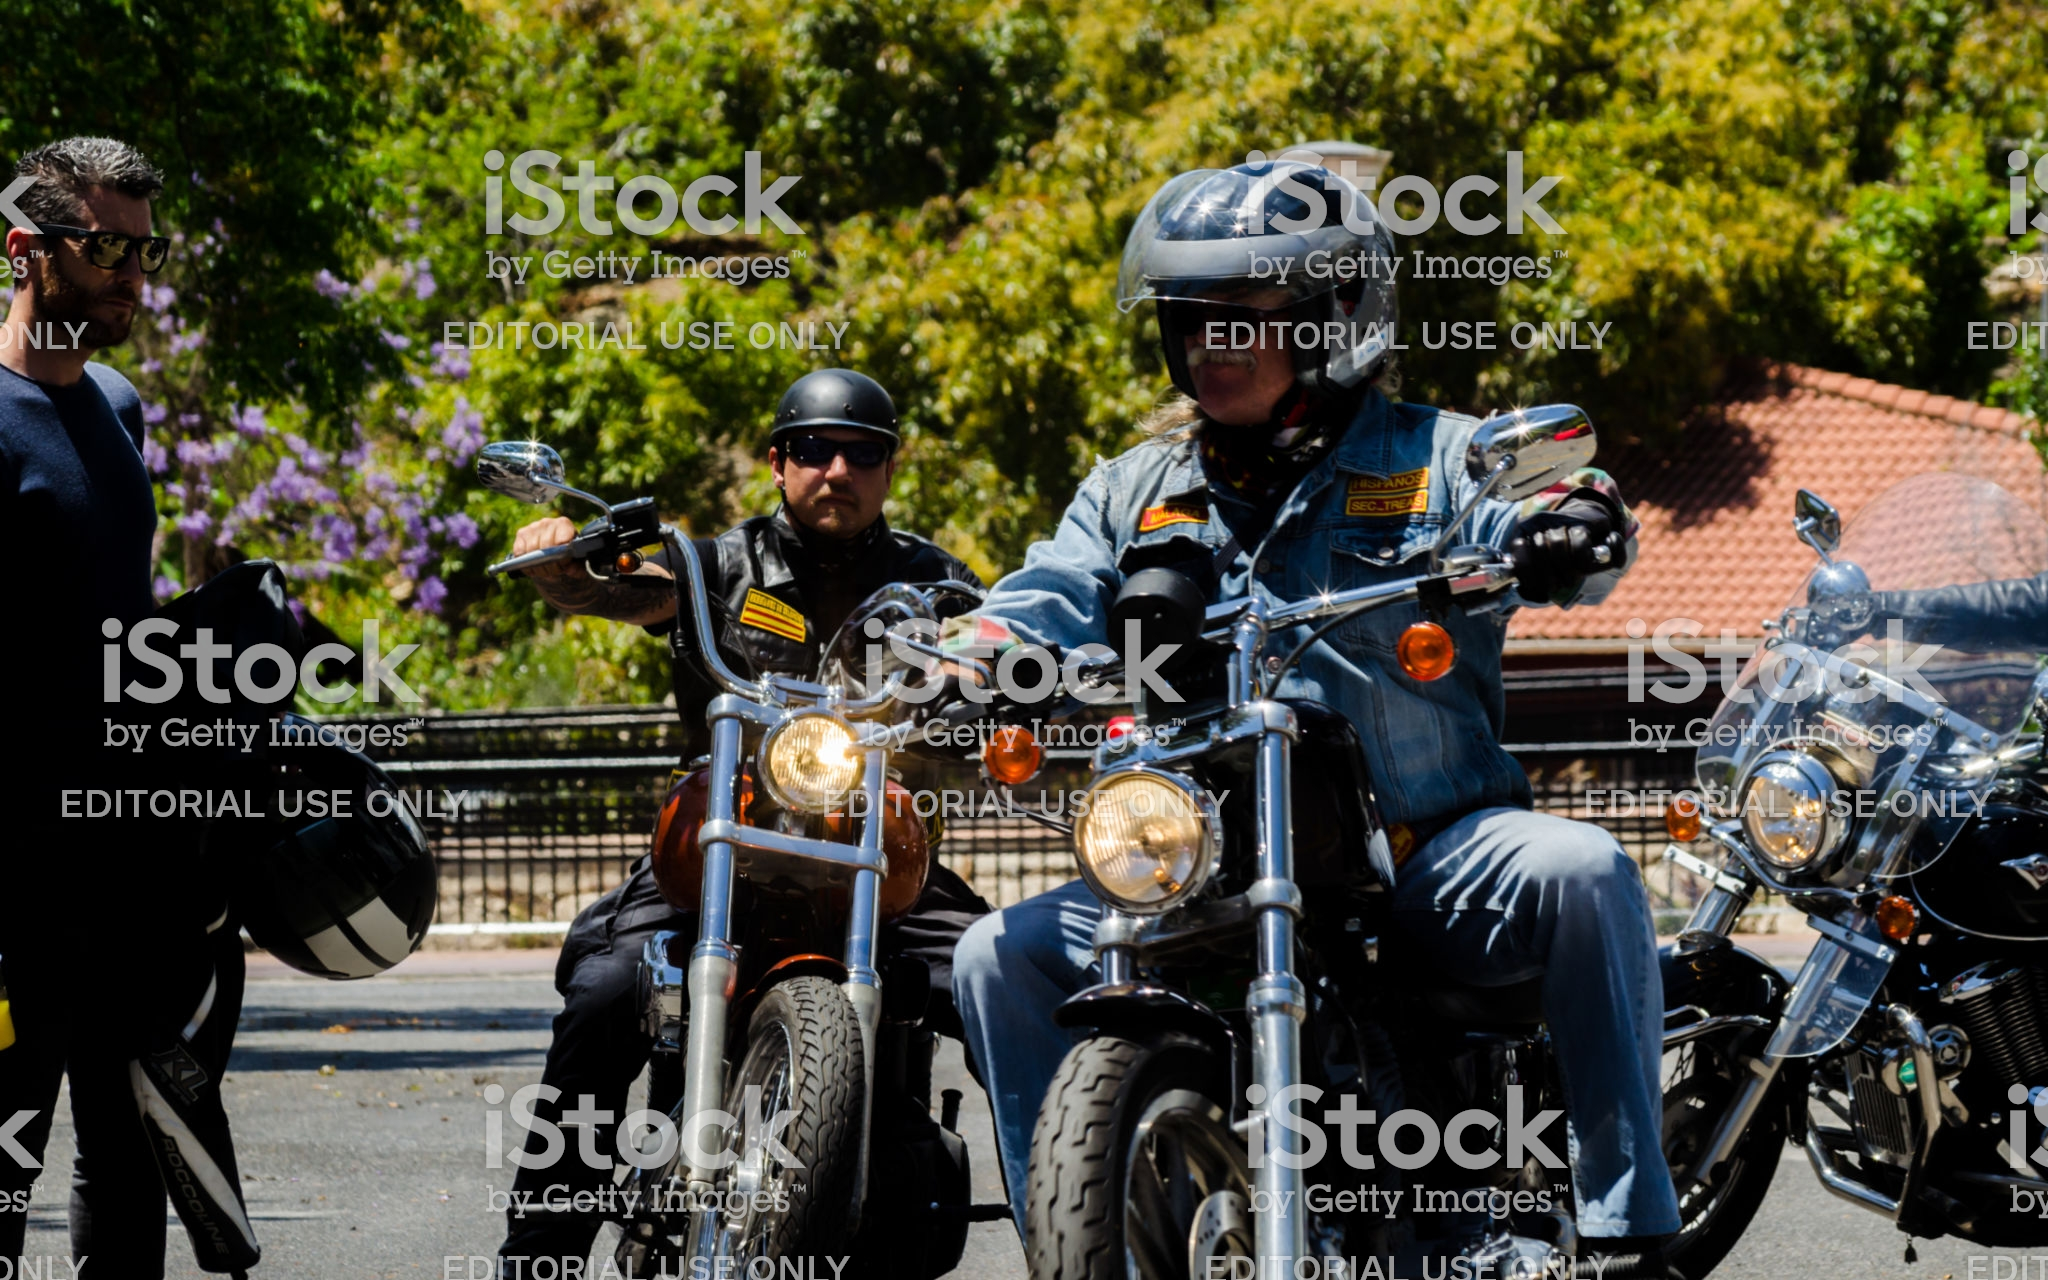helmet: (1112, 142, 1417, 410), (756, 367, 924, 463)
